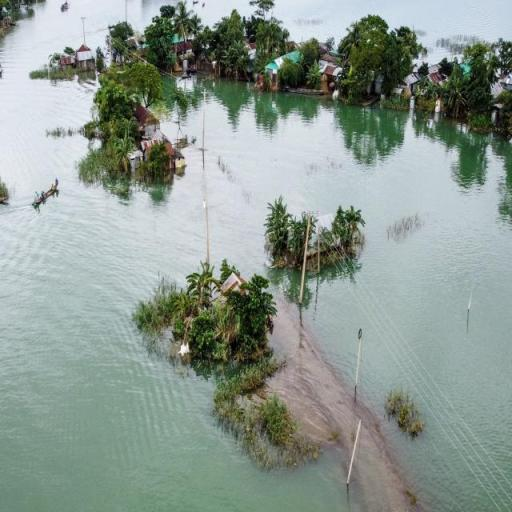flood: (0, 0, 512, 512), (274, 0, 512, 61), (127, 0, 174, 30)
house: (259, 46, 301, 92), (166, 35, 198, 72), (314, 56, 344, 92), (131, 94, 160, 128), (219, 265, 247, 297), (399, 70, 424, 100), (72, 45, 97, 72), (170, 146, 186, 169)
